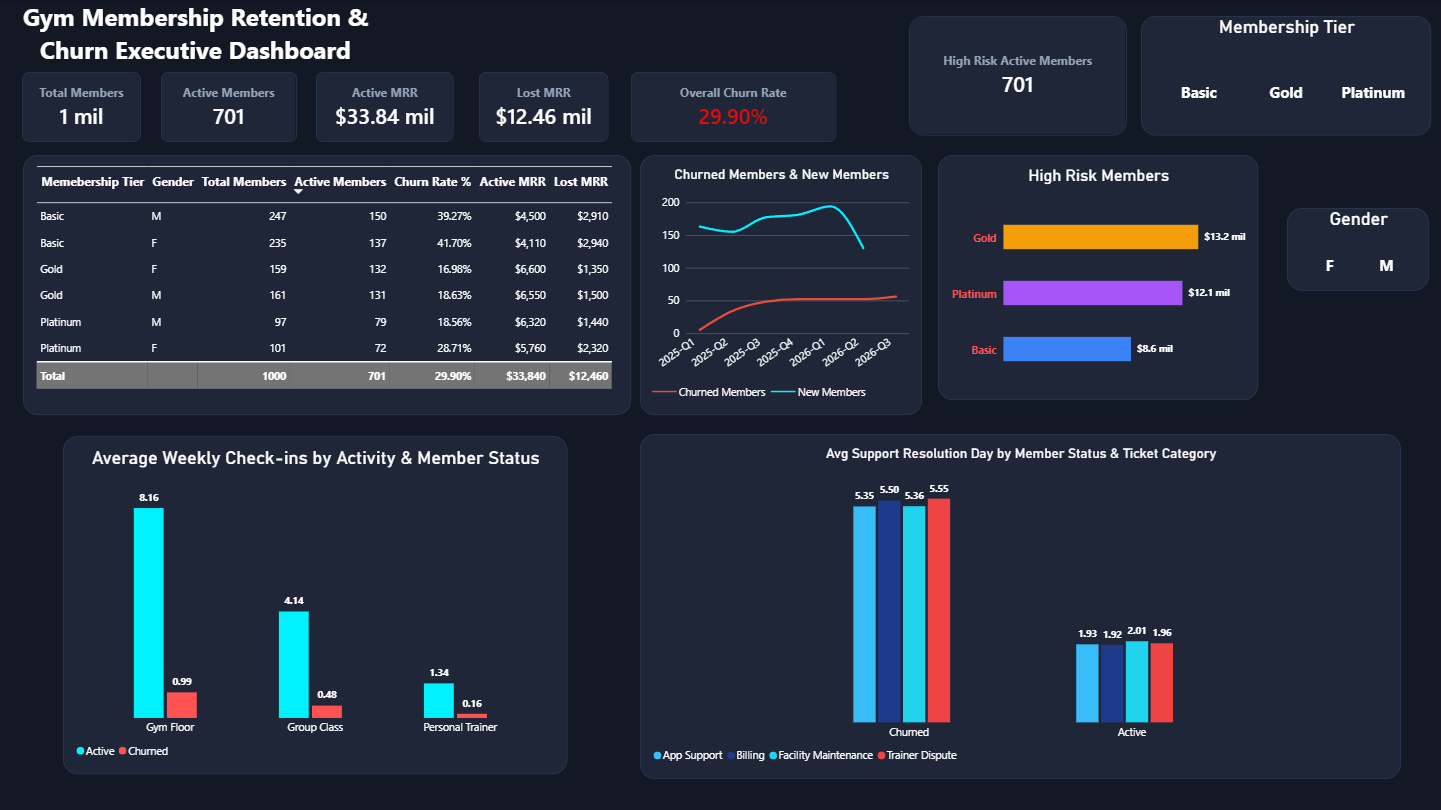

Layout of this report page (visuals, bound fields, positions):
{"tool":"powerbi","page":{"name":"Página 1","canvas":[1920,1080],"ordinal":0},"visuals":[{"type":"tableEx","fields":{"Values":["members.plan_type","members.gender","_Measures.Total Members","_Measures.Active Members","_Measures.Churn Rate %","_Measures.Active MRR","_Measures.Lost MRR"]},"box":[31.4,205.7,808.6,345.7],"z":0},{"type":"textbox","box":[0,0,522.8,96.4],"z":2000},{"type":"cardVisual","fields":{"Data":["_Measures.Total Members"]},"box":[31,96,158.3,93.1],"z":3000},{"type":"cardVisual","fields":{"Data":["_Measures.Active Members"]},"box":[215,96,180.6,93.1],"z":4000},{"type":"cardVisual","fields":{"Data":["_Measures.Active MRR"]},"box":[421,96,183.3,93.1],"z":5000},{"type":"cardVisual","fields":{"Data":["_Measures.Lost MRR"]},"box":[638,96,172.2,93.1],"z":6000},{"type":"slicer","title":"Membership Tier","fields":{"Values":["members.plan_type"]},"box":[1519,20.7,386.2,158.6],"z":7000},{"type":"slicer","title":"Gender","fields":{"Values":["members.gender"]},"box":[1712.5,276.4,188.9,109.7],"z":8000},{"type":"barChart","title":"High Risk Members","fields":{"Category":["members.plan_type"],"Y":["_Measures.MRR at Risk"]},"box":[1249,206,426,326],"z":9000},{"type":"cardVisual","fields":{"Data":["_Measures.High Risk Active Members"]},"box":[1210.3,20.7,289.7,158.6],"z":10000},{"type":"clusteredColumnChart","title":"Average Weekly Check-ins by Activity & Member Status","fields":{"Category":["checkins.activity_type"],"Series":["members.status"],"Y":["_Measures.Avg Visits per Member"]},"box":[85.7,580,670.7,450],"z":11000},{"type":"clusteredColumnChart","title":"Avg Support Resolution Day by Member Status & Ticket Category","fields":{"Category":["members.status"],"Series":["support_interactions.category"],"Y":["_Measures.Avg Support Resolution Days"]},"box":[852.4,576.8,1012.2,458.5],"z":12000},{"type":"cardVisual","fields":{"Data":["_Measures.Churn Rate %"]},"box":[840,96,272.7,93],"z":12001},{"type":"lineChart","title":"Churned Members & New Members","fields":{"Category":["Calendar.AñoTrimestre"],"Y":["_Measures.Churned Members (by Churn Date)","_Measures.New Members (by Join Date)"]},"box":[853,206,375,346],"z":12002}]}

Visuals, with their boxes in screenshot pixels (x1, y1, x2, y2), scaled from the page's 1920x1080 canvas onto the 1441x810 screenshot:
tableEx - members.plan_type x members.gender: <region>24, 154, 630, 414</region>
textbox: <region>0, 0, 392, 72</region>
cardVisual - _Measures.Total Members: <region>23, 72, 142, 142</region>
cardVisual - _Measures.Active Members: <region>161, 72, 297, 142</region>
cardVisual - _Measures.Active MRR: <region>316, 72, 454, 142</region>
cardVisual - _Measures.Lost MRR: <region>479, 72, 608, 142</region>
"Membership Tier" slicer: <region>1140, 16, 1430, 134</region>
"Gender" slicer: <region>1285, 207, 1427, 290</region>
"High Risk Members" barChart: <region>937, 154, 1257, 399</region>
cardVisual - _Measures.High Risk Active Members: <region>908, 16, 1126, 134</region>
"Average Weekly Check-ins by Activity & Member Status" clusteredColumnChart: <region>64, 435, 568, 772</region>
"Avg Support Resolution Day by Member Status & Ticket Category" clusteredColumnChart: <region>640, 433, 1399, 776</region>
cardVisual - _Measures.Churn Rate %: <region>630, 72, 835, 142</region>
"Churned Members & New Members" lineChart: <region>640, 154, 922, 414</region>
